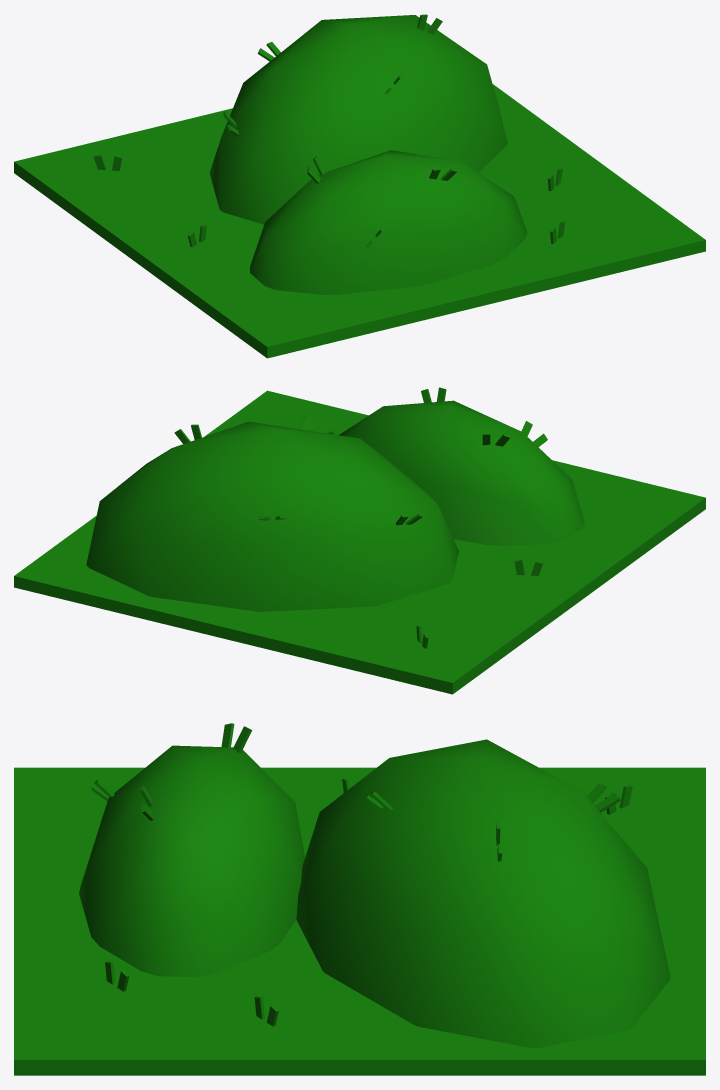
The model's file is Tile1x1ArbustosPlanta.fbx.
3 views of the same model, one above another, from view 1: azimuth 30°, elevation 25°; view 2: azimuth 150°, elevation 25°; view 3: azimuth 270°, elevation 25° (orthographic). The views are drawn at different scales.
Visible parts, largest first — view 1: Vege.arbustos; view 2: Vege.arbustos; view 3: Vege.arbustos.
Boxes of the visible parts, bbox=[...] form: Vege.arbustos: bbox=[14, 14, 705, 358]; Vege.arbustos: bbox=[14, 387, 705, 694]; Vege.arbustos: bbox=[14, 723, 705, 1075].
Size of the model in its own units: 400 by 130 by 400.
